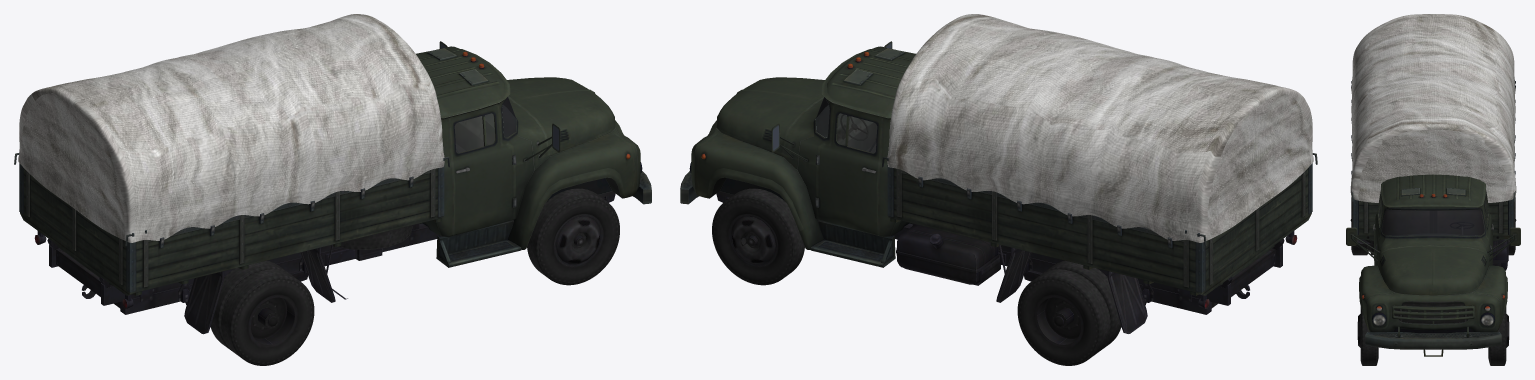
The model's file is zil-130.glb.
The picture shows the model from 3 angles, left to right: view 1: azimuth 30°, elevation 25°; view 2: azimuth 150°, elevation 25°; view 3: azimuth 270°, elevation 25°; orthographic projection. The views are drawn at different scales.
Visible parts, largest first — view 1: object 1, Box001, object 5, object 7, Box001_4, Object002_23 - Default_0; view 2: object 1, Box001, object 4, object 6, Box001_4, Object002_23 - Default_0; view 3: object 1, Box001, Object002_23 - Default_0, object 6, object 7, object 5.
Part boxes in pixels (x1,y1,x2,y2): object 1: (18, 14, 444, 242); Box001: (14, 41, 651, 314); object 5: (210, 260, 314, 365); object 7: (527, 188, 619, 285); Box001_4: (184, 244, 335, 334); Object002_23 - Default_0: (454, 97, 516, 152); object 1: (887, 14, 1313, 242); Box001: (680, 41, 1317, 314); object 4: (1017, 260, 1121, 365); object 6: (712, 188, 804, 285); Box001_4: (996, 244, 1147, 333); Object002_23 - Default_0: (816, 97, 877, 152); object 1: (1350, 14, 1516, 202); Box001: (1346, 80, 1520, 356); Object002_23 - Default_0: (1379, 200, 1487, 235); object 6: (1488, 307, 1509, 365); object 7: (1357, 307, 1378, 365); object 5: (1350, 197, 1373, 255).
Size of the model in its own units: 145 by 65.33 by 55.03.
8 materials, 8 textured.
